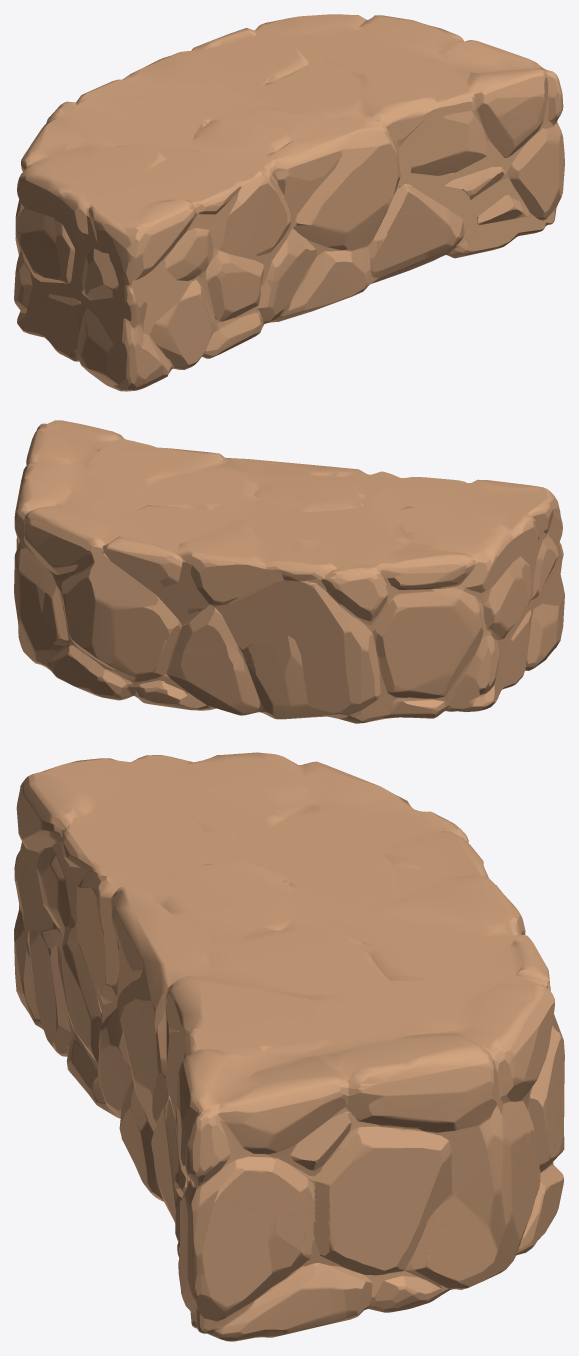
3 renders of one model, top to bottom at view 1: azimuth 30°, elevation 25°; view 2: azimuth 150°, elevation 25°; view 3: azimuth 270°, elevation 25°, orthographic. The views are drawn at different scales.
Visible parts, largest first — view 1: Mesh_5_LOD0; view 2: Mesh_5_LOD0; view 3: Mesh_5_LOD0.
Part boxes in pixels (bbox=[...]): Mesh_5_LOD0: bbox=[14, 14, 564, 391]; Mesh_5_LOD0: bbox=[14, 420, 564, 723]; Mesh_5_LOD0: bbox=[14, 752, 564, 1341].
Size of what is drawn, in the model's own units: 5555 by 1790 by 3524.
